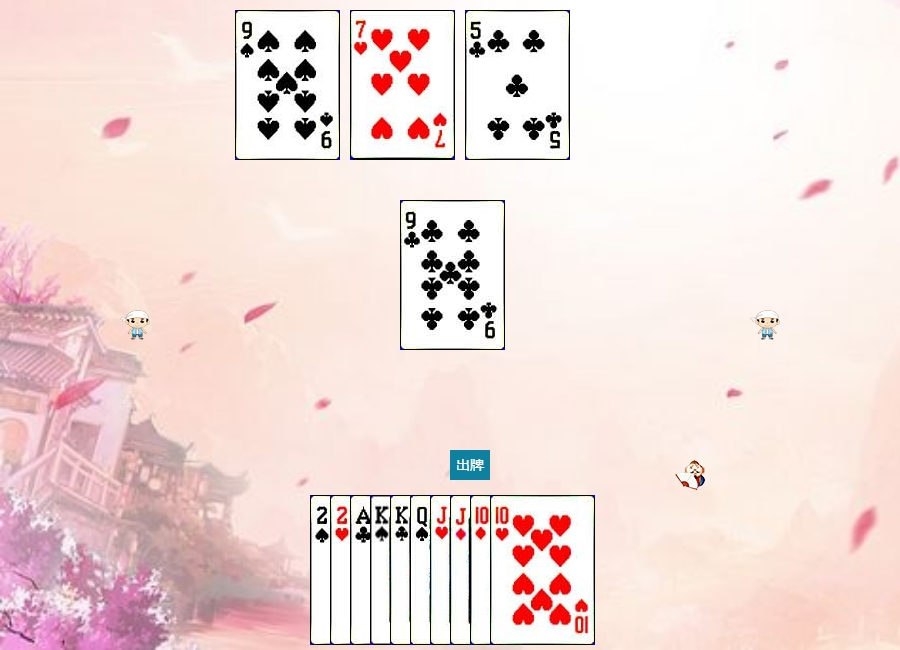10~1: (470, 495, 575, 645)
10~3: (490, 495, 595, 645)
11~1: (450, 495, 555, 645)
11~3: (430, 495, 535, 645)
12~4: (410, 495, 515, 645)
13~2: (390, 495, 495, 645)
13~4: (370, 495, 475, 645)
14~2: (350, 495, 455, 645)
15~3: (330, 495, 435, 645)
15~4: (310, 495, 415, 645)
5~2: (465, 10, 570, 160)
7~3: (350, 10, 455, 160)
9~2: (400, 200, 505, 350)
9~4: (235, 10, 340, 160)
